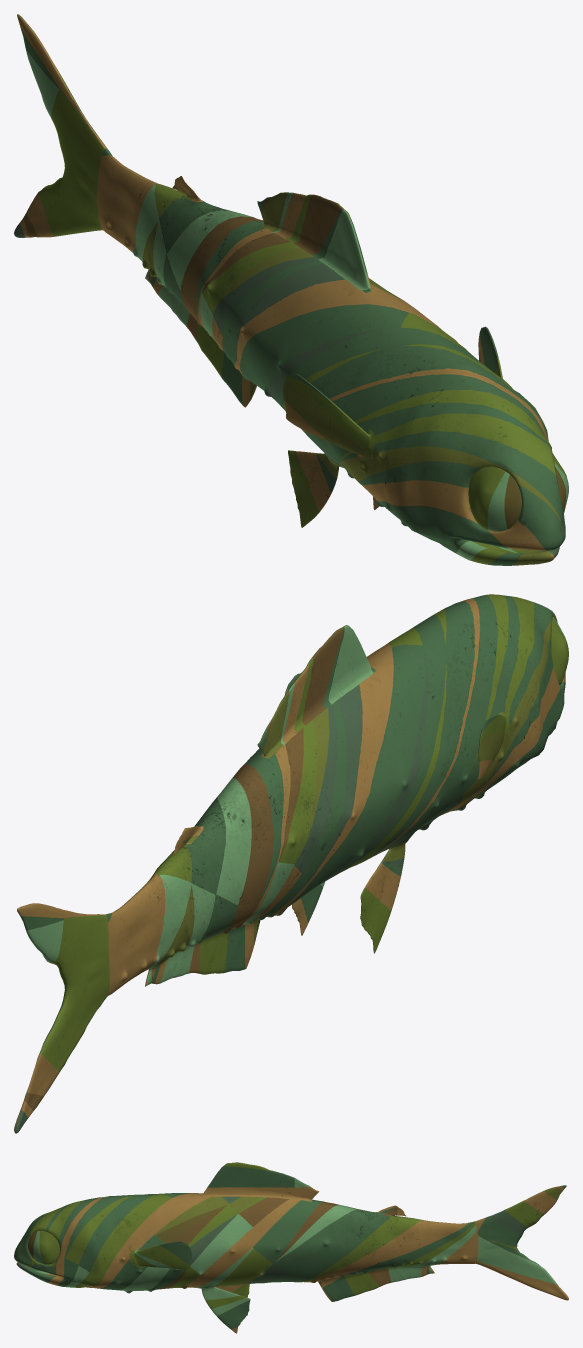
Rendered from Fish.obj.
3 renders of one model, top to bottom at view 1: azimuth 30°, elevation 25°; view 2: azimuth 150°, elevation 25°; view 3: azimuth 270°, elevation 25°, orthographic. The views are drawn at different scales.
Visible parts, largest first — view 1: obj1; view 2: obj1; view 3: obj1.
Boxes of the visible parts, x1,y1,x2,y2 form: obj1: (14,14,568,565); obj1: (14,594,568,1133); obj1: (14,1162,568,1333).
Size of the model in its own units: 0.0198 by 0.0304 by 0.0942.
